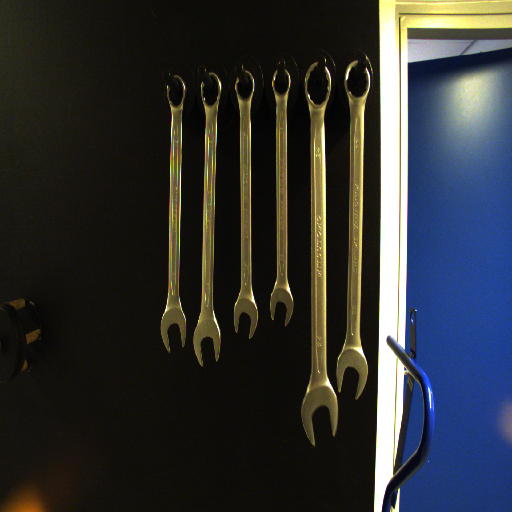bottom: (296, 384, 341, 446), (334, 344, 370, 401), (191, 319, 224, 367), (231, 295, 261, 340), (159, 309, 188, 353), (267, 285, 297, 327)
top: (302, 60, 333, 109), (342, 58, 375, 102), (197, 71, 225, 109), (231, 69, 258, 104), (162, 73, 188, 109), (270, 67, 293, 101)
